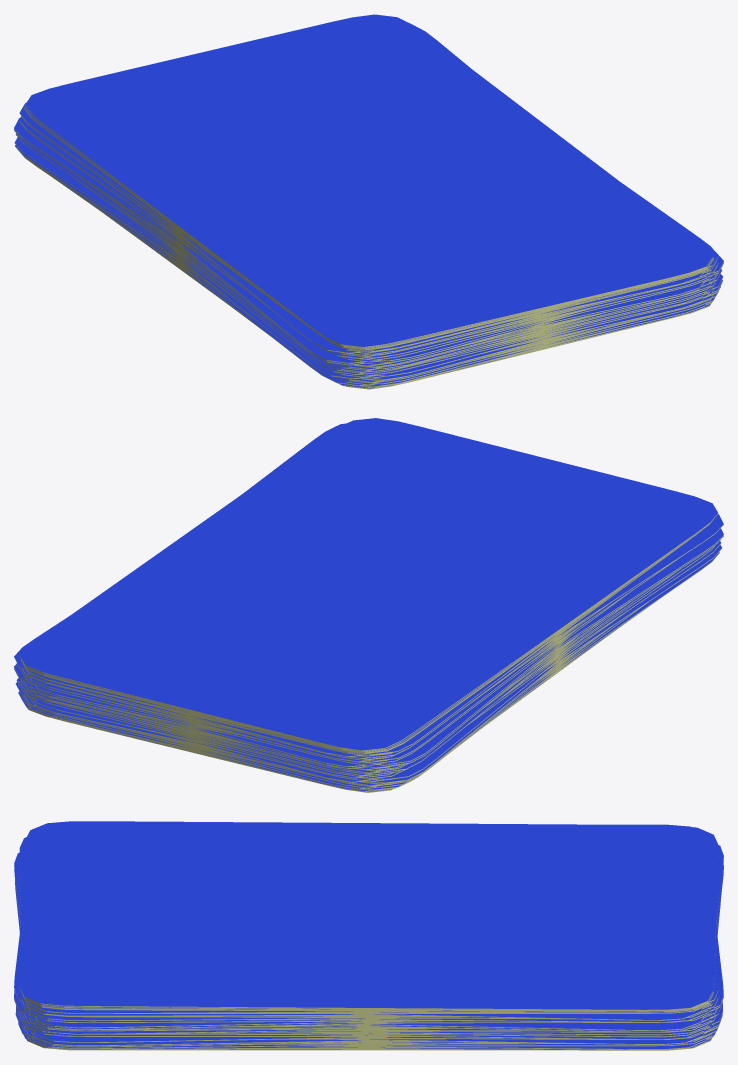
Rendered from cardPile.fbx.
The picture shows the model from 3 angles, top to bottom: view 1: azimuth 30°, elevation 25°; view 2: azimuth 150°, elevation 25°; view 3: azimuth 270°, elevation 25°; orthographic projection.
Parts seen in each view (by area): view 1: Card.049, Card.030, Card.042, Card.015, Card.033, Card.045, Card.012, Card.037, Card.011, Card.004, Card.024, Card.017 (+22 smaller); view 2: Card.049, Card.042, Card.030, Card.015, Card.045, Card.033, Card.012, Card.037, Card.011, Card.004, Card.024, Card.017 (+22 smaller); view 3: Card.049, Card.042, Card.030, Card.033, Card.045, Card.015, Card.012, Card.037, Card.011, Card.048, Card.047, Card.004 (+32 smaller).
Part boxes in pixels (<box>): Card.049: <box>25,14,712,347</box>; Card.030: <box>175,240,703,363</box>; Card.042: <box>171,25,702,353</box>; Card.015: <box>14,137,723,376</box>; Card.033: <box>14,118,723,361</box>; Card.045: <box>19,103,718,351</box>; Card.012: <box>171,252,704,379</box>; Card.037: <box>19,116,718,357</box>; Card.011: <box>15,145,722,379</box>; Card.004: <box>163,253,706,385</box>; Card.024: <box>15,133,722,368</box>; Card.017: <box>165,243,704,374</box>; Card.049: <box>19,418,718,751</box>; Card.042: <box>14,514,723,756</box>; Card.030: <box>14,528,723,767</box>; Card.015: <box>34,652,567,779</box>; Card.045: <box>30,423,573,754</box>; Card.033: <box>36,634,570,764</box>; Card.012: <box>15,545,722,782</box>; Card.037: <box>30,631,570,761</box>; Card.011: <box>33,660,561,783</box>; Card.004: <box>18,552,719,789</box>; Card.024: <box>34,636,577,772</box>; Card.017: <box>16,541,721,778</box>; Card.049: <box>19,821,718,1010</box>; Card.042: <box>14,845,723,1020</box>; Card.030: <box>14,865,723,1030</box>; Card.033: <box>14,852,723,1028</box>; Card.045: <box>19,824,718,1013</box>; Card.015: <box>15,880,722,1042</box>; Card.012: <box>15,891,721,1044</box>; Card.037: <box>19,861,718,1021</box>; Card.011: <box>16,897,722,1046</box>; Card.048: <box>22,840,716,1010</box>; Card.047: <box>22,842,716,1011</box>; Card.004: <box>18,1022,706,1049</box>.
Size of the model in its own units: 119 by 12 by 182.
